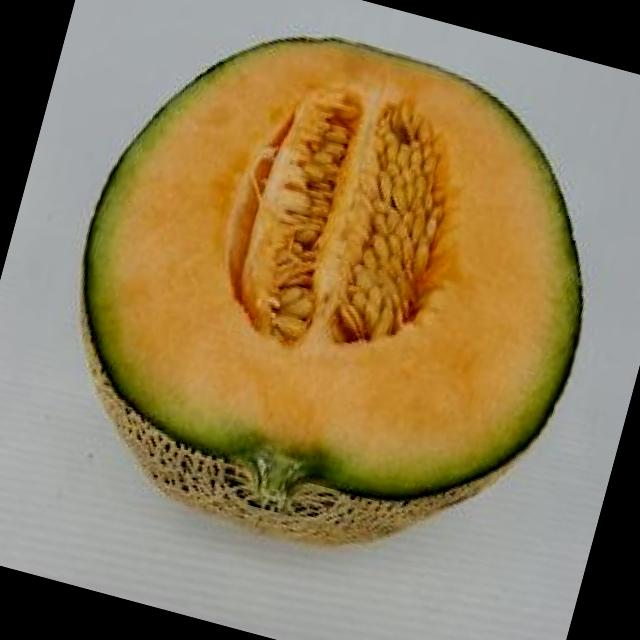cantaloupe: (23, 0, 639, 602)
